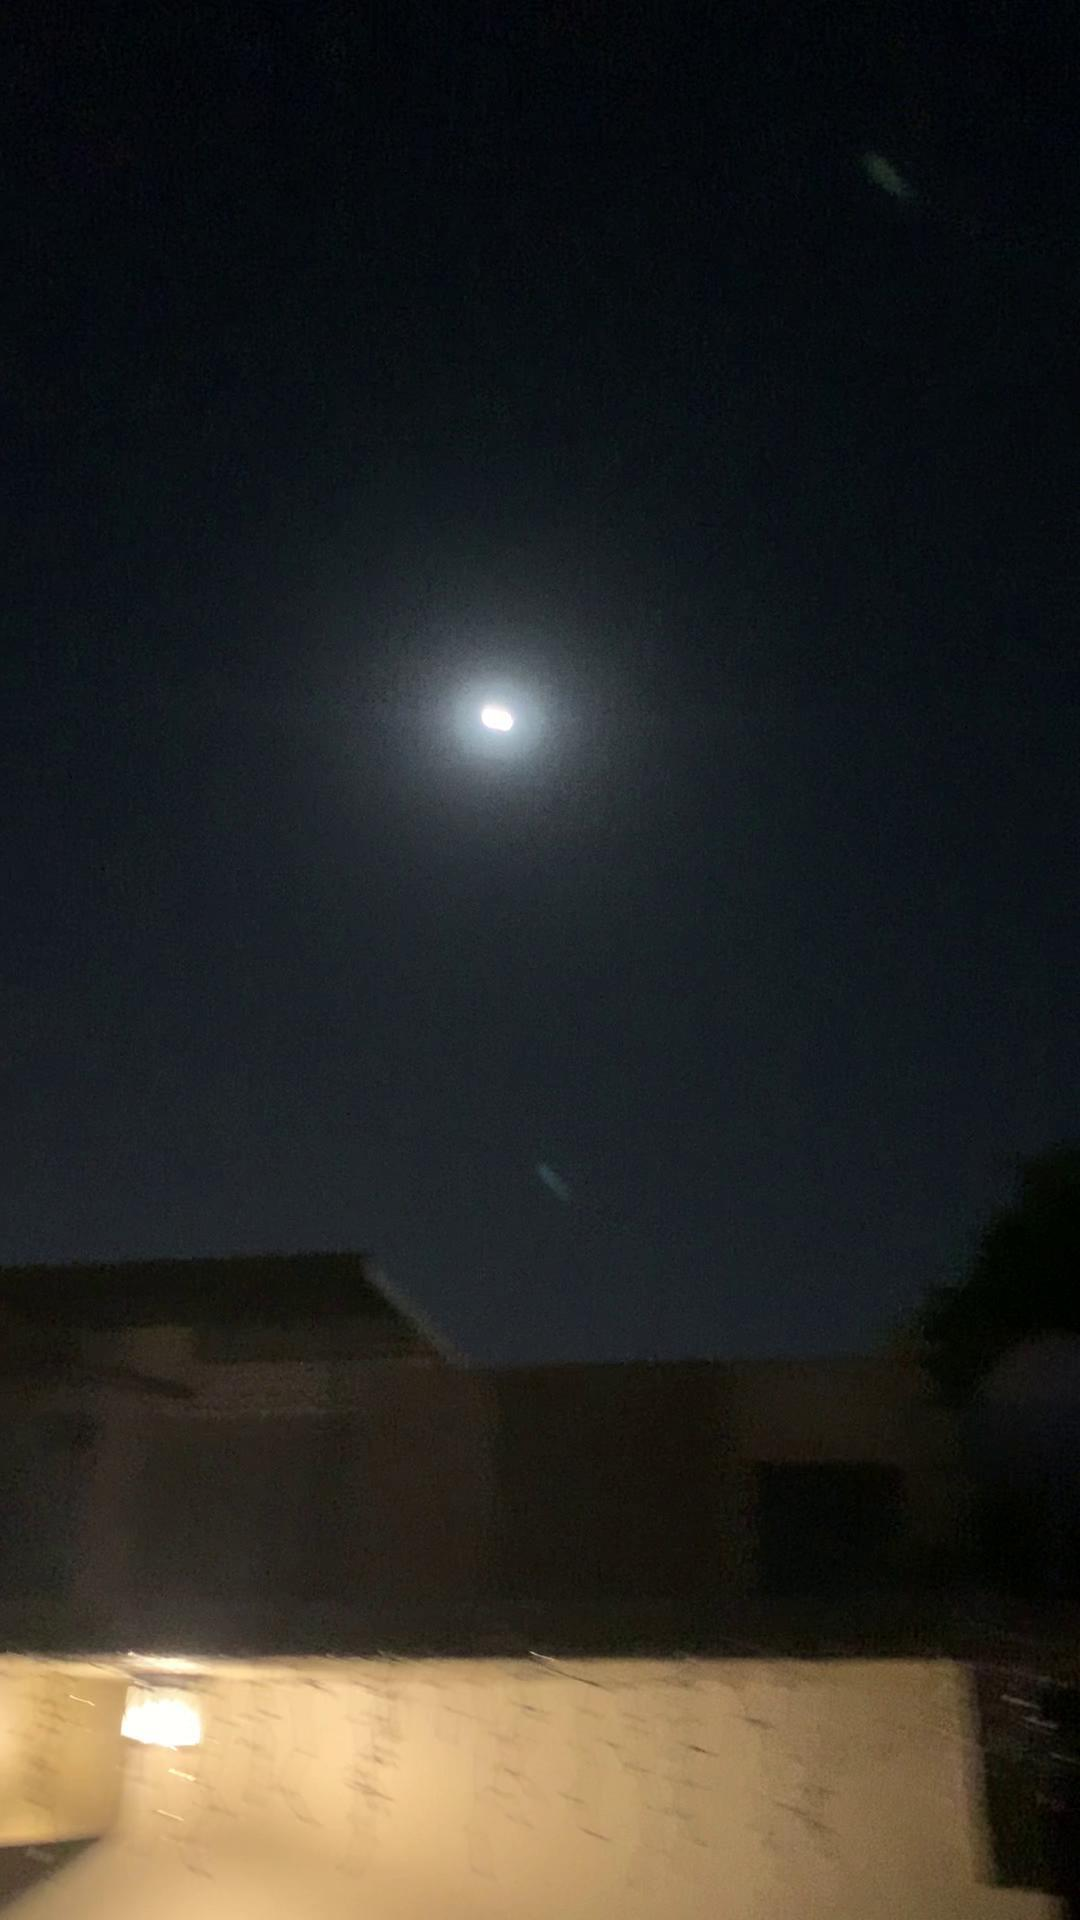moon: (455, 687, 542, 766)
